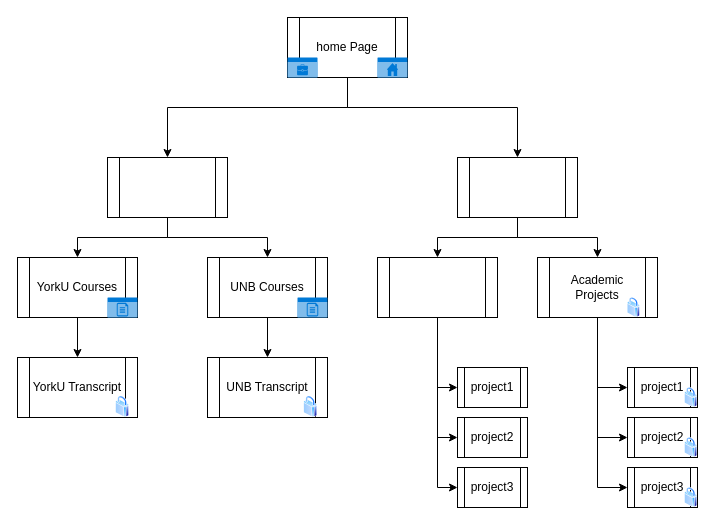
Image size: 715x525. Some labels were removed from this diagram. The centre of each missing label's shape, as x and y in pixels:
"Course Pages" belongs at pixel 167 187.
"Projects" belongs at pixel 517 187.
"Public Projects" belongs at pixel 437 287.
